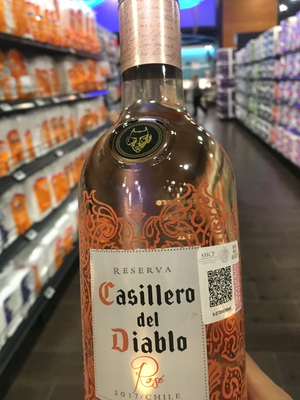casillero del diablo rose: (69, 10, 253, 400)
